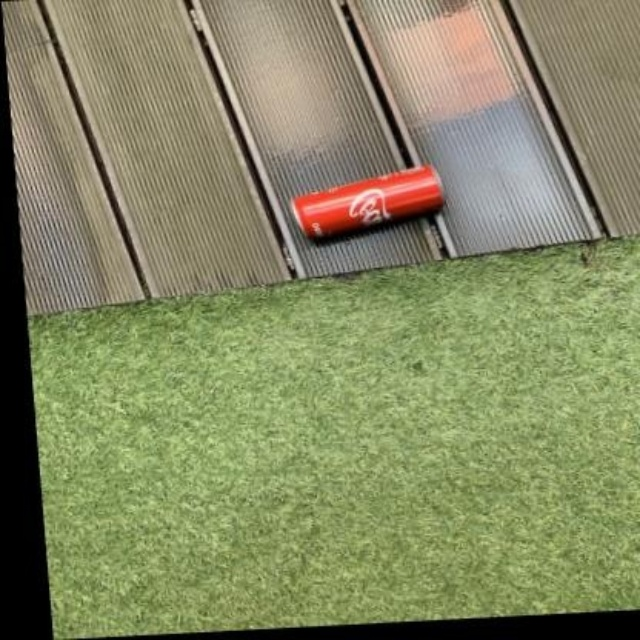trash: (292, 165, 442, 238)
